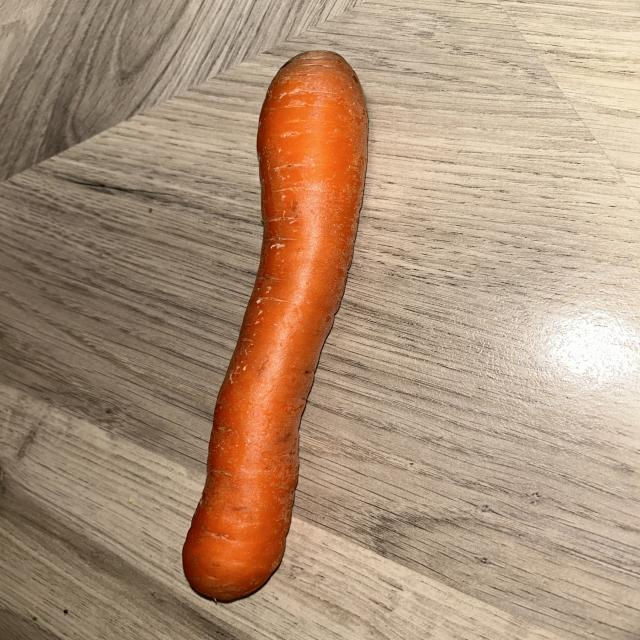carrot: (183, 51, 368, 601)
